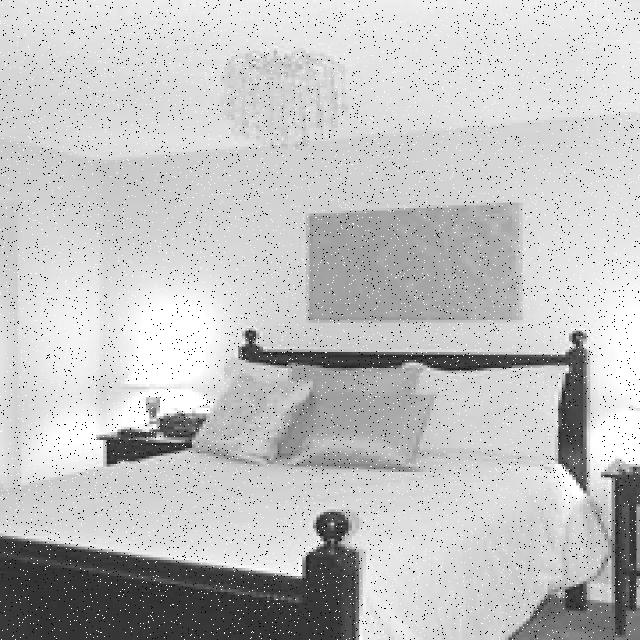bed: (0, 325, 608, 640)
